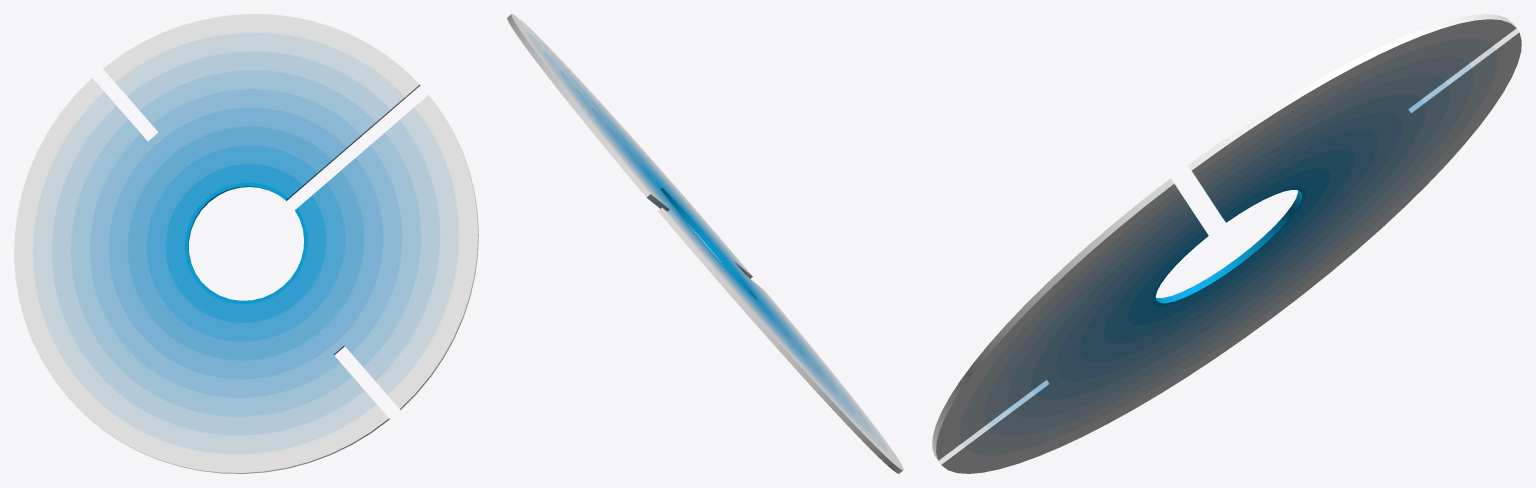
File: SVD6_2.glb
3 views of the same model, side by side, from view 1: azimuth 30°, elevation 25°; view 2: azimuth 150°, elevation 25°; view 3: azimuth 270°, elevation 25° (orthographic). The views are drawn at different scales.
Visible parts, largest first — view 1: a15a7696-0020-4511-854a-2a2e96c2e5b6.001; view 2: a15a7696-0020-4511-854a-2a2e96c2e5b6.001; view 3: a15a7696-0020-4511-854a-2a2e96c2e5b6.001.
Part boxes in pixels (x1,y1,x2,y2): a15a7696-0020-4511-854a-2a2e96c2e5b6.001: (14,14,478,473); a15a7696-0020-4511-854a-2a2e96c2e5b6.001: (507,14,903,473); a15a7696-0020-4511-854a-2a2e96c2e5b6.001: (932,14,1521,473).
Bounding box in the file's own units: 3.61 × 3.4 × 3.47.
Materials: 1 (1 with a texture image).
